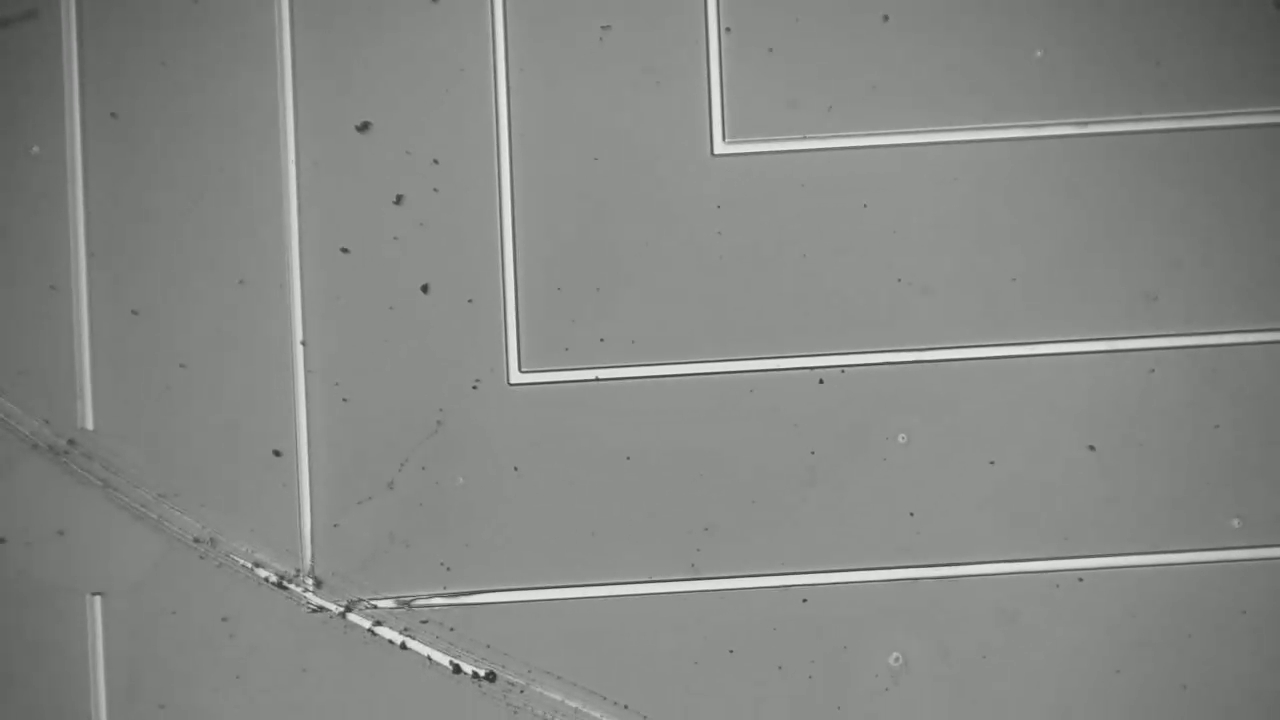open: (53, 387, 136, 632)
scratch: (14, 419, 641, 720)
